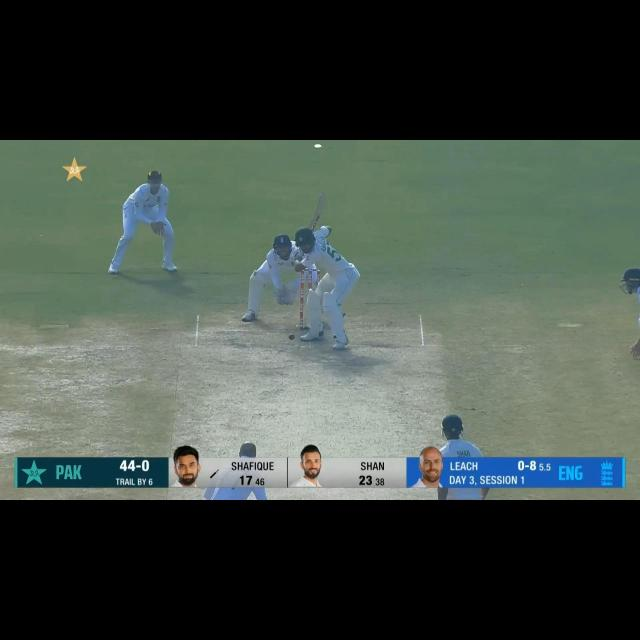bat: (309, 191, 326, 232)
toe: (318, 191, 328, 200)
